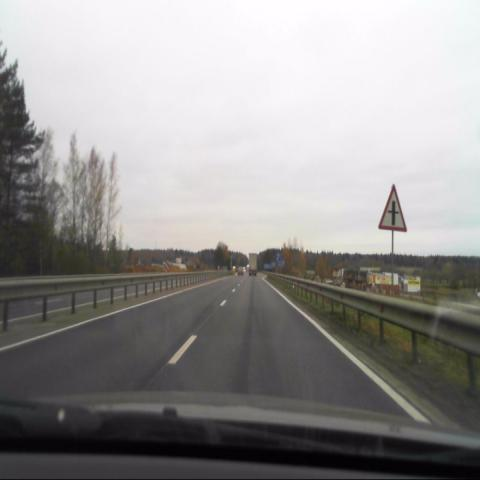2_3: (379, 182, 407, 234)
